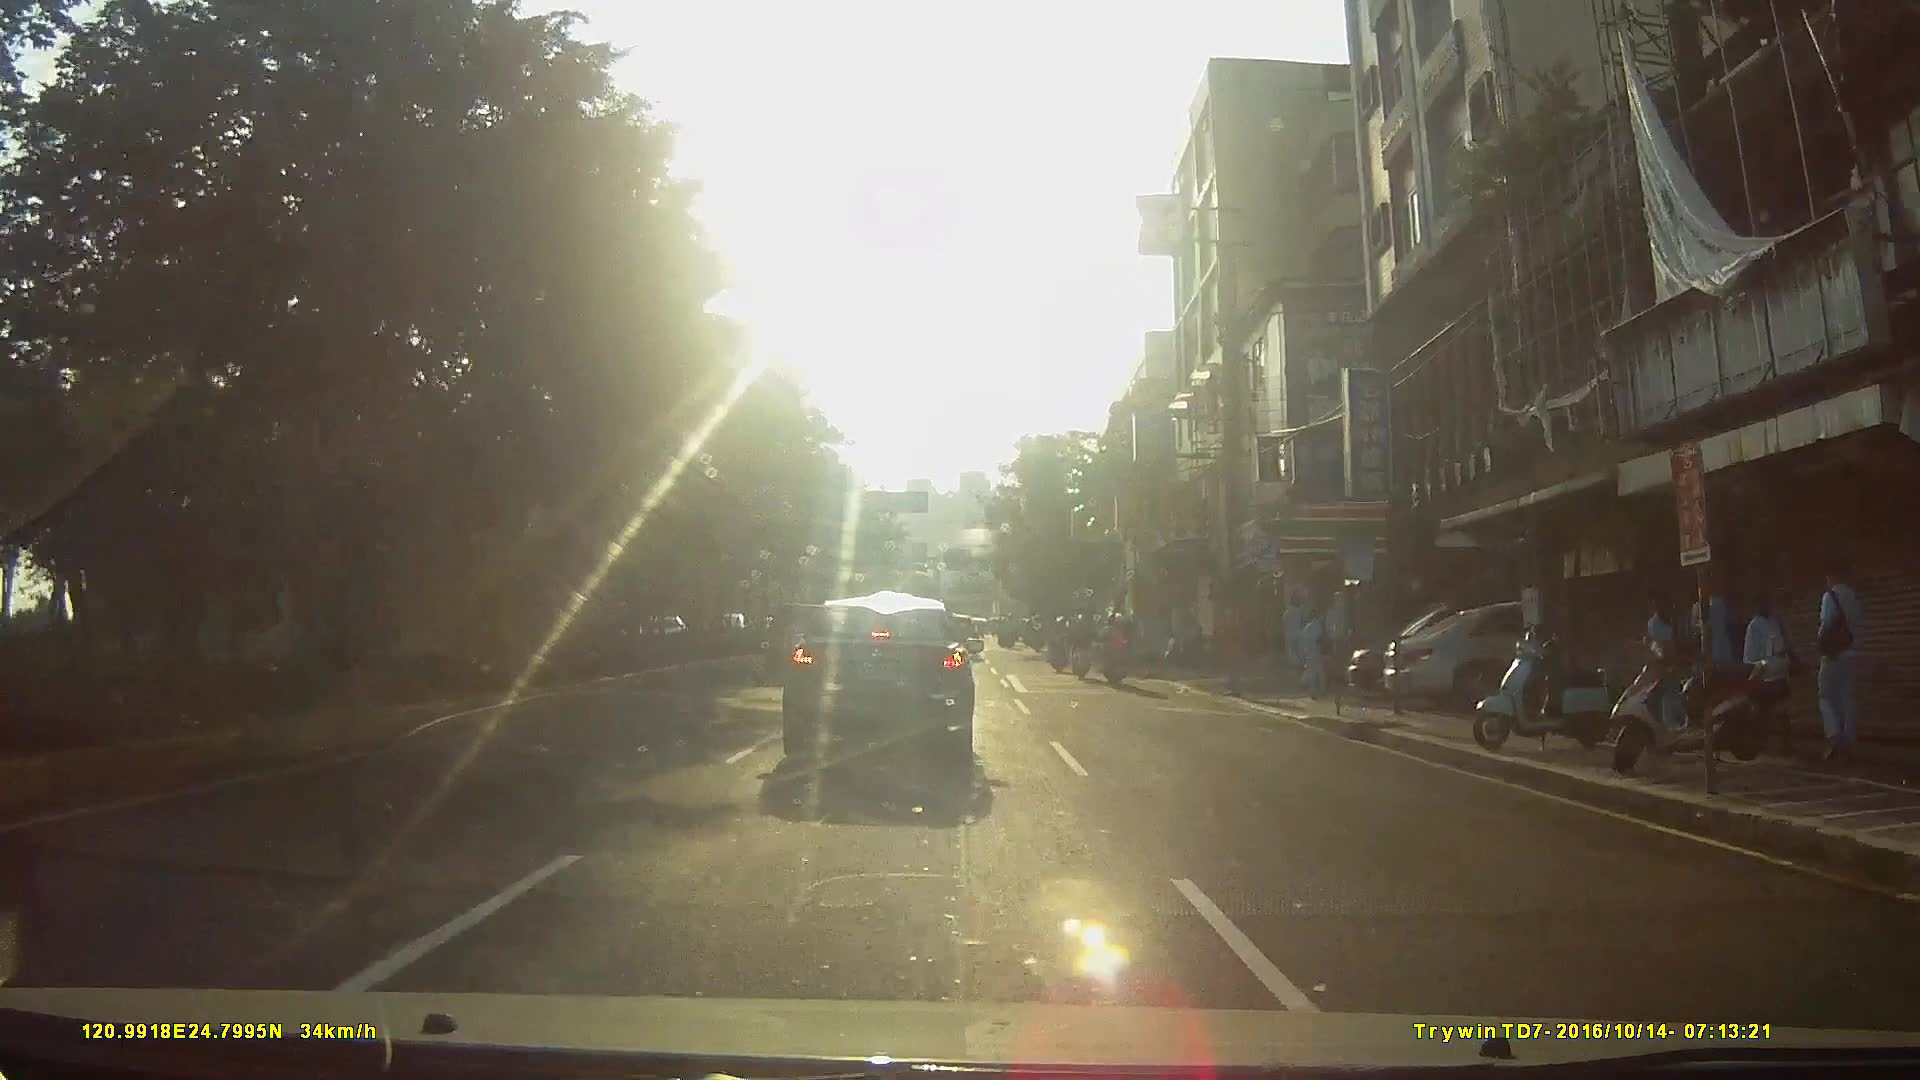pedestrian: (1814, 554, 1877, 770), (1685, 563, 1738, 736), (1744, 590, 1792, 735), (1644, 577, 1688, 720), (1294, 604, 1338, 702)
rider: (1099, 614, 1137, 694), (1066, 610, 1094, 685), (1045, 619, 1072, 679)
vehicle: (763, 585, 995, 782), (1380, 594, 1713, 714)
